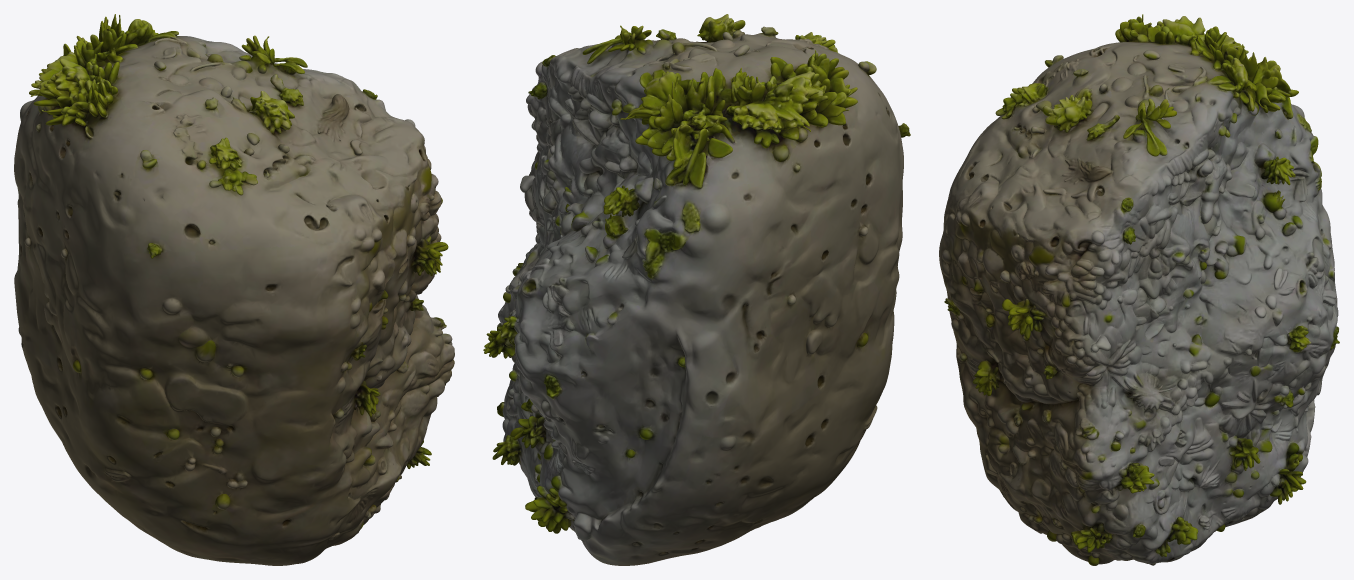
File: mossy_stone.glb
The picture shows the model from 3 angles, left to right: view 1: azimuth 30°, elevation 25°; view 2: azimuth 150°, elevation 25°; view 3: azimuth 270°, elevation 25°; orthographic projection. The views are drawn at different scales.
Parts seen in each view (by area): view 1: tripo_node_f16ba75d-904f-40d7-aec2-742862b368f8; view 2: tripo_node_f16ba75d-904f-40d7-aec2-742862b368f8; view 3: tripo_node_f16ba75d-904f-40d7-aec2-742862b368f8.
Boxes of the visible parts, left/top/right/bottom form: tripo_node_f16ba75d-904f-40d7-aec2-742862b368f8: left=14, top=14, right=454, bottom=565; tripo_node_f16ba75d-904f-40d7-aec2-742862b368f8: left=483, top=14, right=910, bottom=565; tripo_node_f16ba75d-904f-40d7-aec2-742862b368f8: left=939, top=14, right=1339, bottom=565.
Size of the model in its own units: 0.7994 by 1 by 0.817.
Materials: 1 (1 with a texture image).
